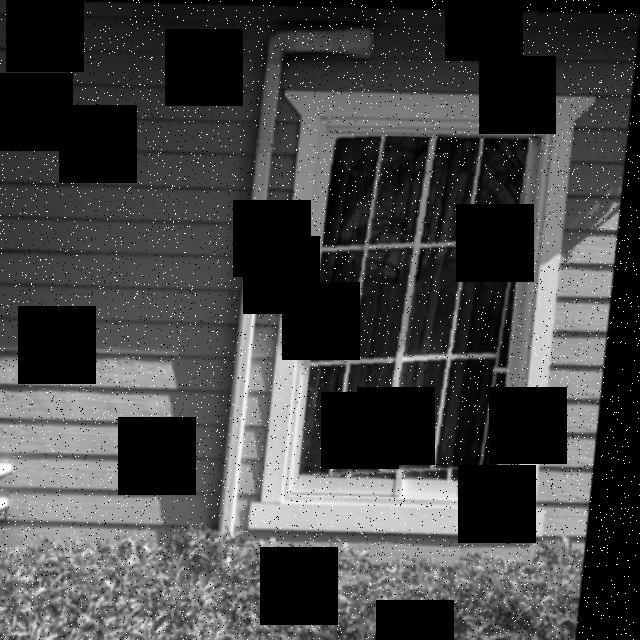Window: (308, 133, 536, 480)
